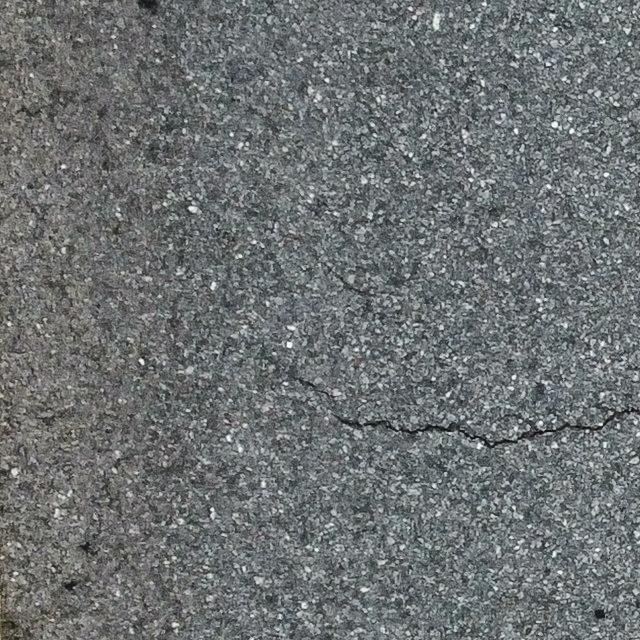TransverseCrack: (292, 378, 640, 449)
